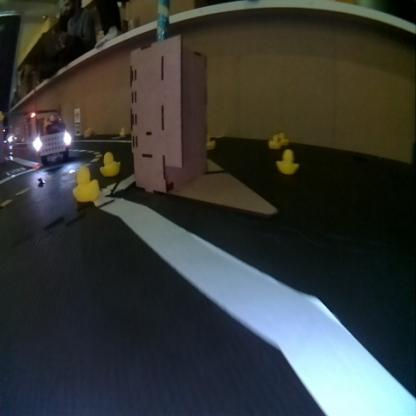Duckie: (73, 166, 97, 201), (98, 151, 120, 176), (276, 149, 298, 173), (268, 134, 277, 148), (206, 136, 214, 148)
Duckiebot: (34, 121, 69, 164)
